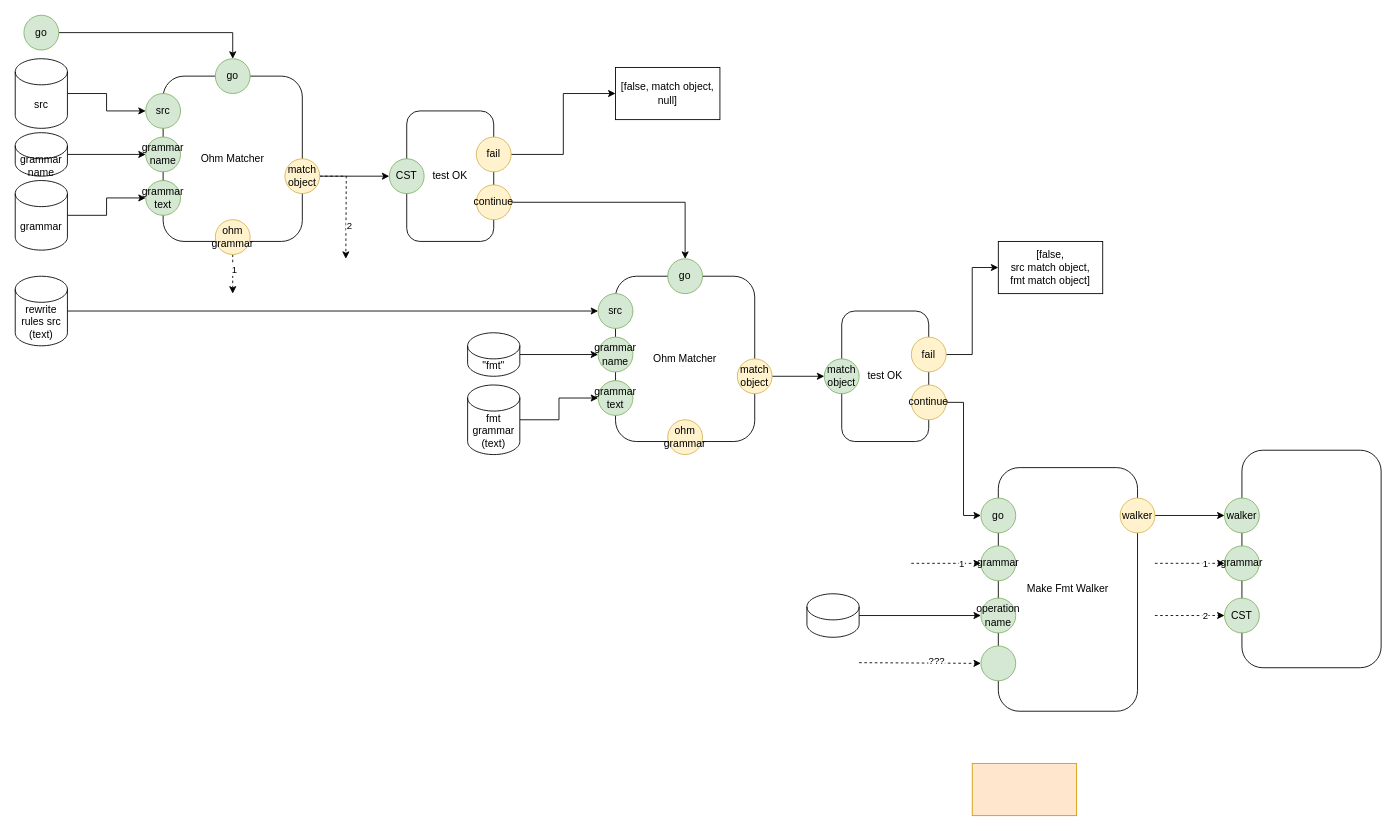
Some shapes in this 1396 by 831 pixel diagram are drawn without their labels. Here are the shapes that lost their labels. From the top down, the box of each, then its label:
(1241, 449, 1381, 668): Walk src
(806, 593, 859, 637): "walk"
(980, 645, 1016, 681): operation hooks
(971, 763, 1077, 816): make fmt walker should be make Ohm walker
